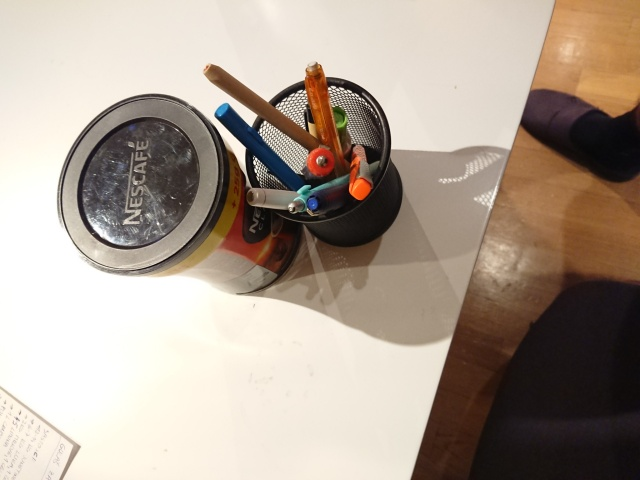Nescafe Classic 225g: (53, 90, 308, 298)
